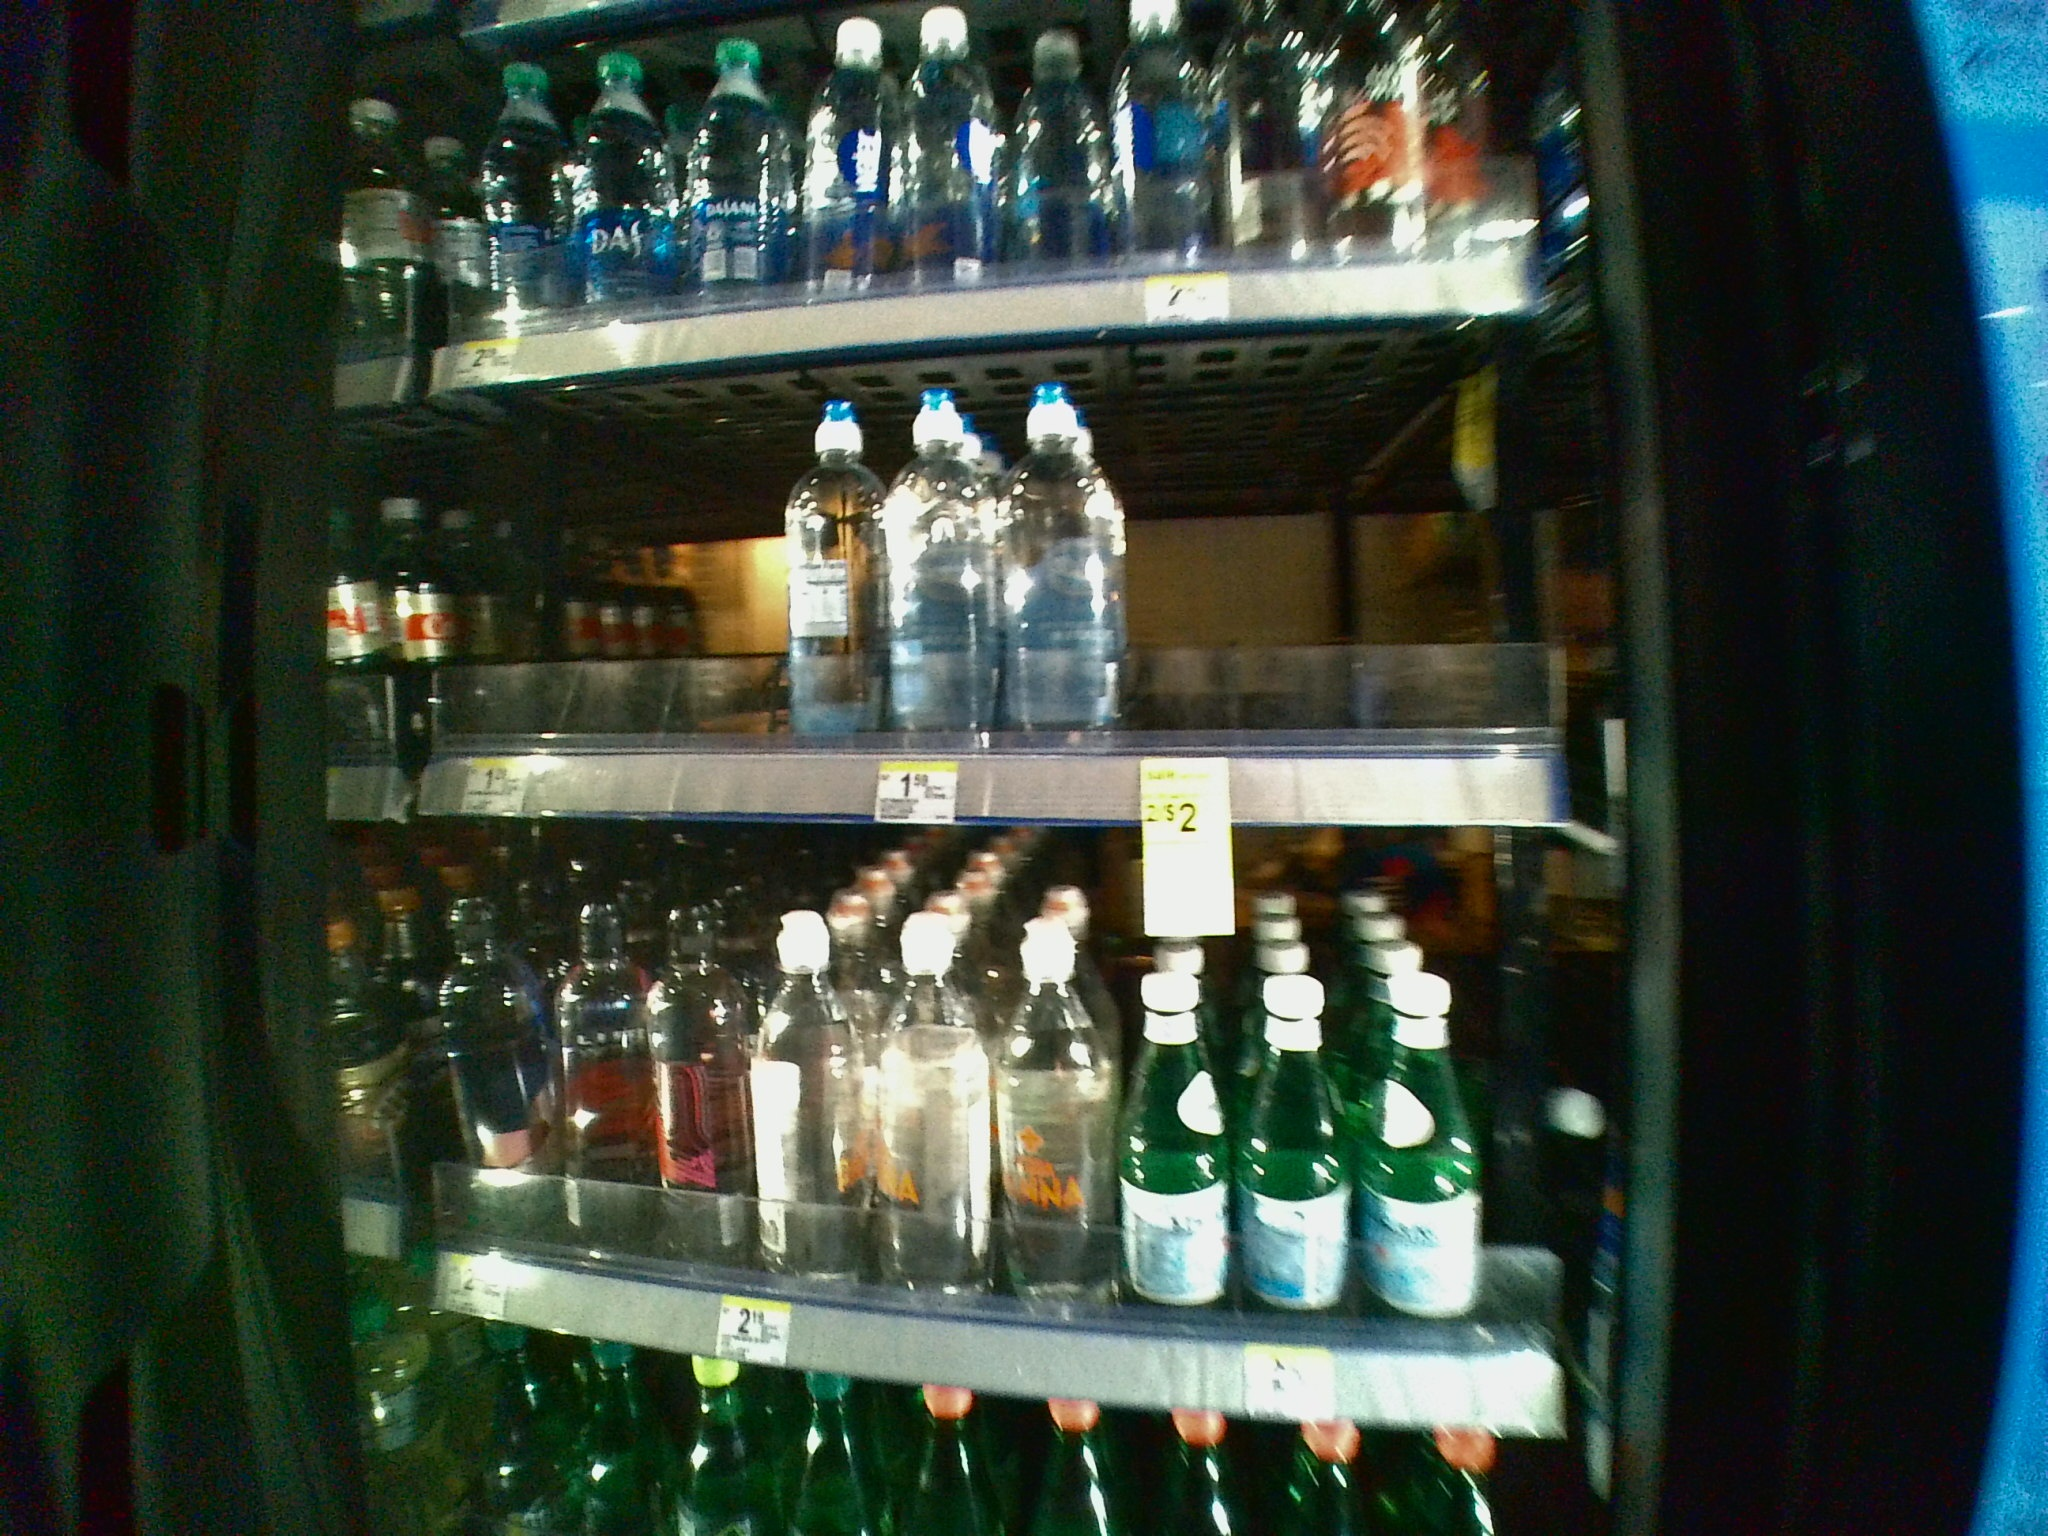shelf: (389, 821, 1606, 1449), (389, 390, 1601, 826)
